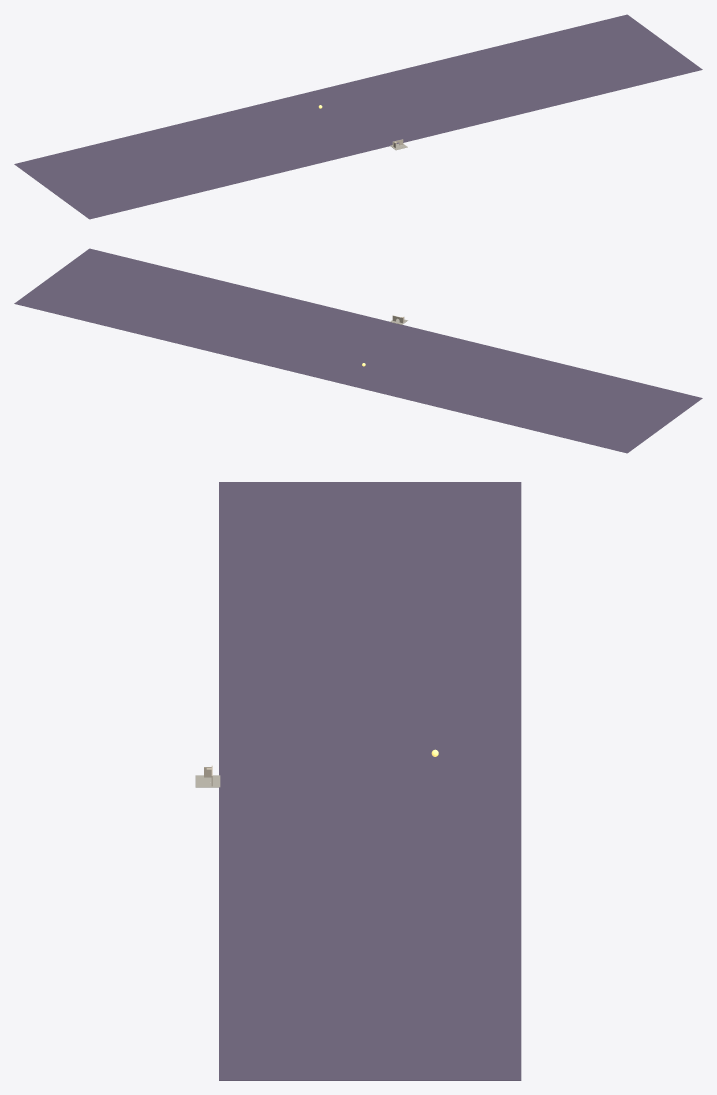
Rendered from dusk.glb.
3 renders of one model, top to bottom at view 1: azimuth 30°, elevation 25°; view 2: azimuth 150°, elevation 25°; view 3: azimuth 270°, elevation 25°, orthographic. The views are drawn at different scales.
Visible parts, largest first — view 1: Ocean / quiet continuous horizon; view 2: Ocean / quiet continuous horizon; view 3: Ocean / quiet continuous horizon.
Boxes of the visible parts, x1=… form: Ocean / quiet continuous horizon: x1=14, y1=14, x2=702, y2=219; Ocean / quiet continuous horizon: x1=14, y1=248, x2=702, y2=453; Ocean / quiet continuous horizon: x1=219, y1=482, x2=521, y2=1080.
Size of the model in its own units: 1500 by 12.46 by 345.
